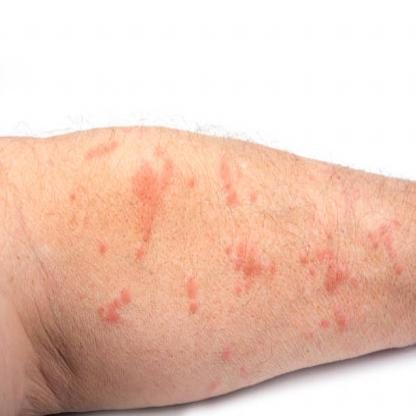Chicken Skin: (106, 155, 167, 358), (187, 252, 284, 377), (242, 228, 366, 322), (186, 152, 270, 283)
